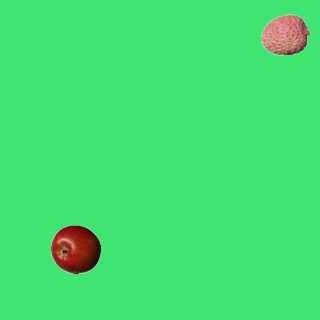Apple Braeburn: (50, 224, 100, 274)
Lychee: (260, 9, 310, 59)
